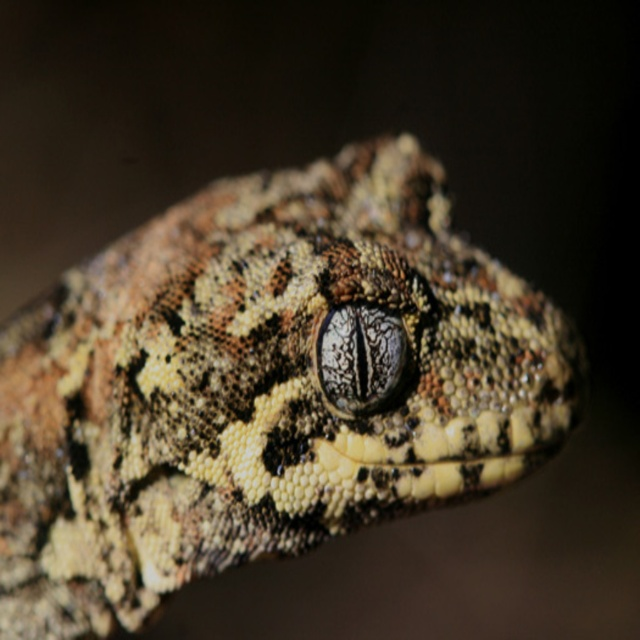Lizard: (0, 133, 591, 640)
